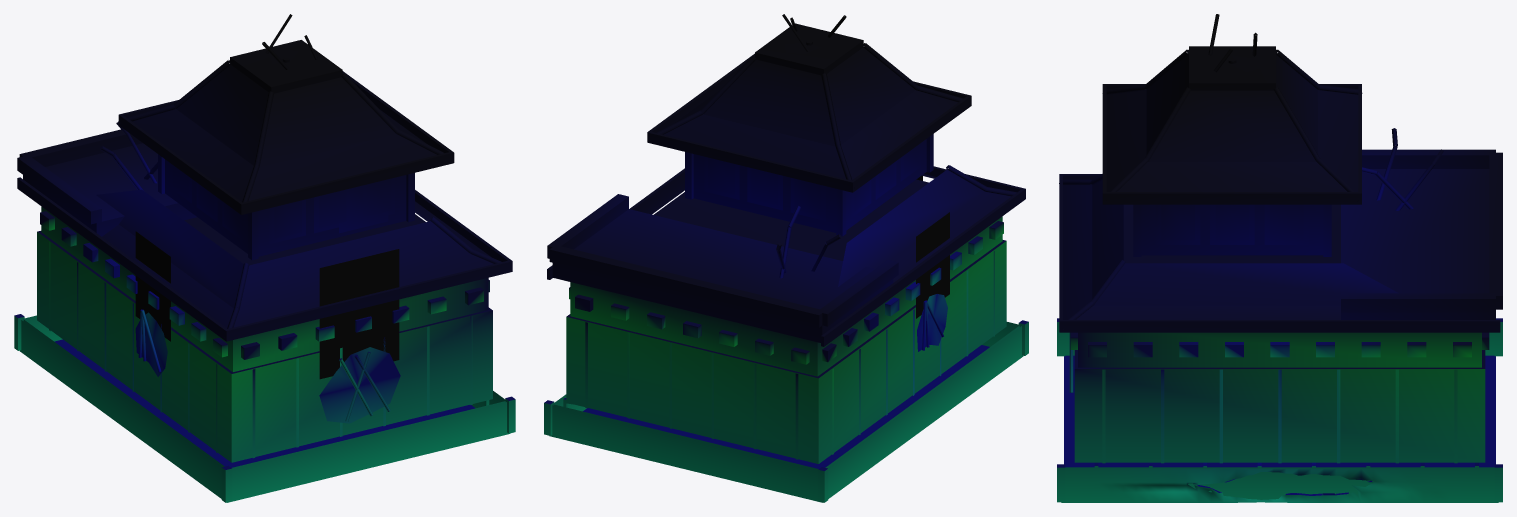
Rendered from l_palacetwr_damaged.glb.
The picture shows the model from 3 angles, left to right: view 1: azimuth 30°, elevation 25°; view 2: azimuth 150°, elevation 25°; view 3: azimuth 270°, elevation 25°; orthographic projection. The views are drawn at different scales.
Parts seen in each view (by area): view 1: lod0; view 2: lod0; view 3: lod0.
Boxes of the visible parts, <box> form: lod0: <box>14,14,515,502</box>; lod0: <box>544,14,1028,502</box>; lod0: <box>1057,14,1502,502</box>.
Size of what is drawn, in the model's own units: 13 by 16.42 by 16.4.
